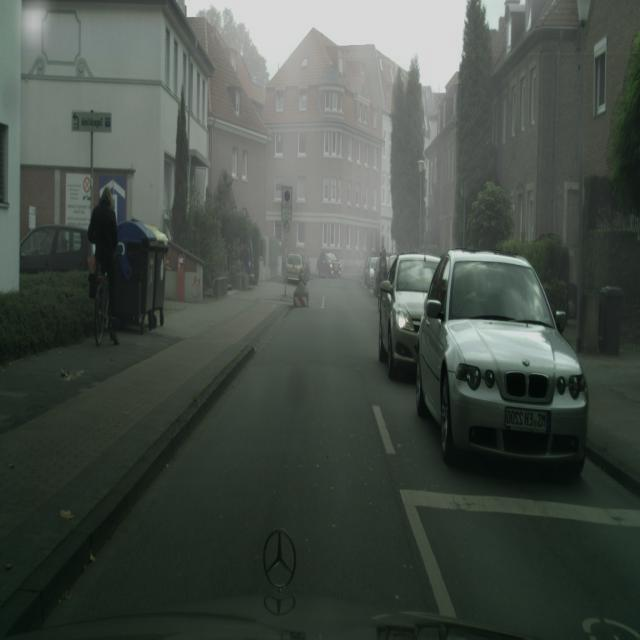car: (414, 249, 589, 479), (378, 252, 440, 380), (20, 224, 92, 272), (373, 249, 389, 299), (286, 252, 309, 285), (316, 250, 342, 278), (364, 255, 378, 290)
person: (88, 184, 119, 337), (373, 249, 389, 299)
truck: (94, 264, 119, 346)
